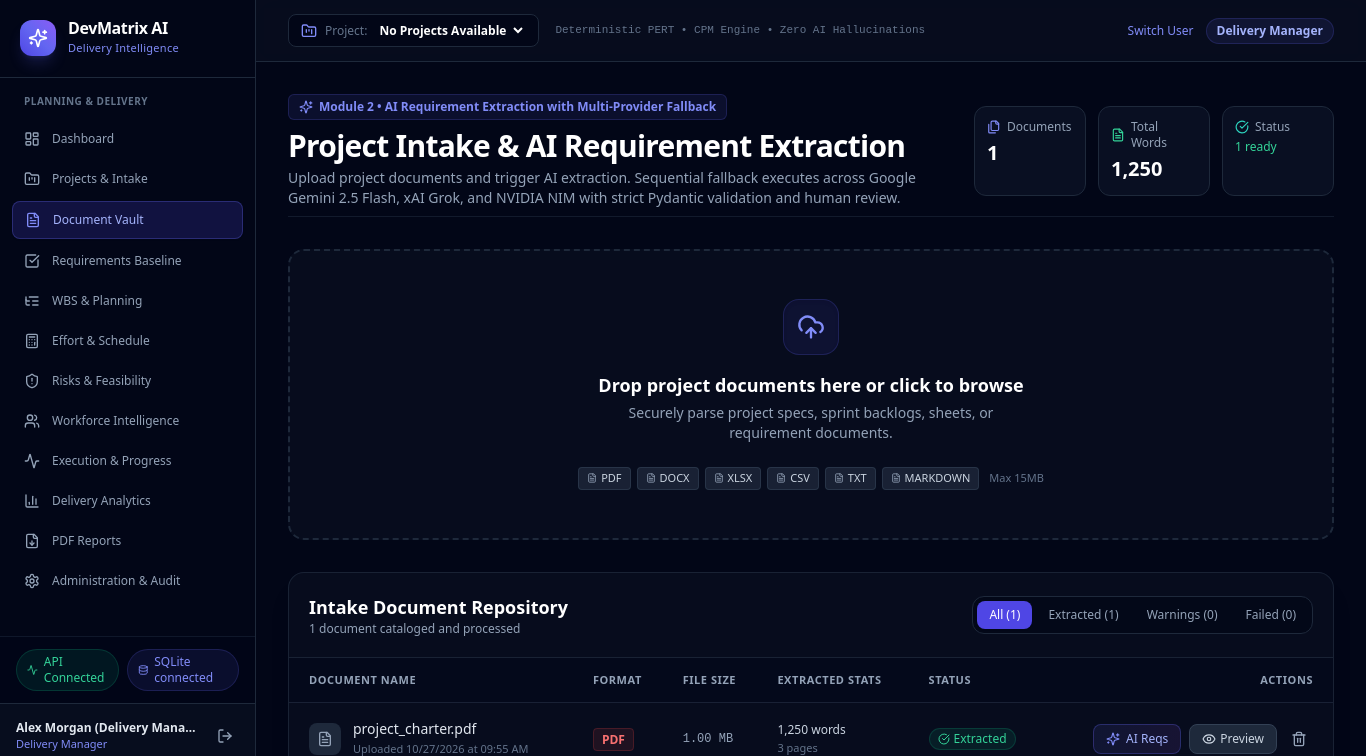
Scenario: Project List and Selection State Integration › handles empty project list by displaying No Projects Available and No Project Selected
This screenshot has width=1366, height=756.
Note: Switch to Dashboard and verify "No Project Selected" banner
Click the button "Dashboard" at coordinates (128, 138), box [12,120,243,156]
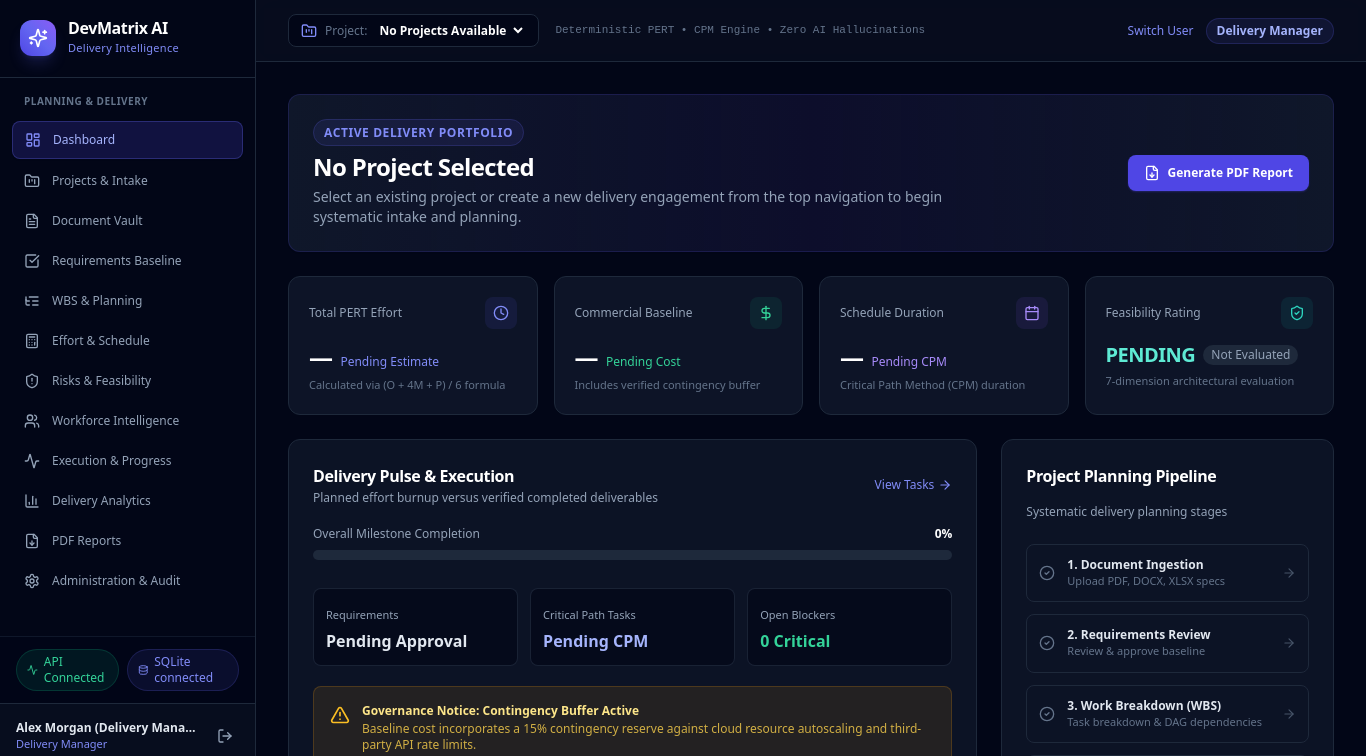
Now the heading "No Project Selected" is shown, box [313,150,534,183]
